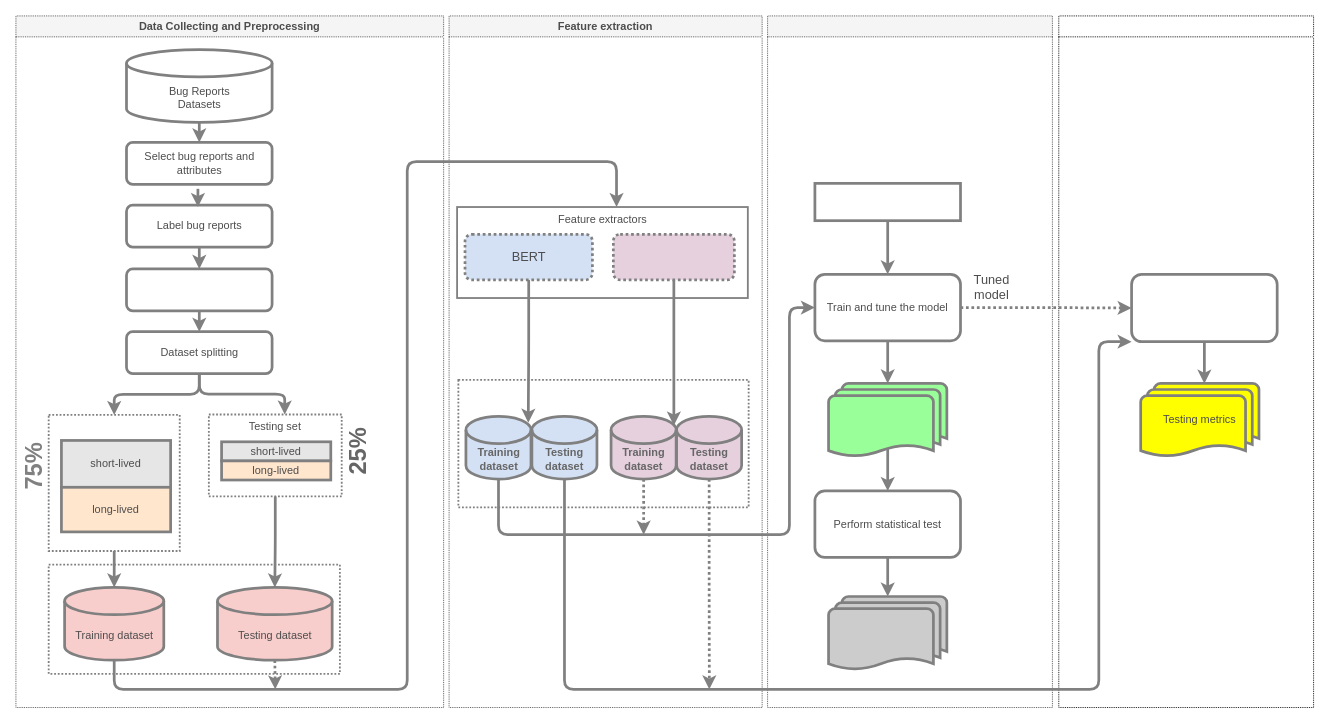
The diagram is 1330 pixels wide and 723 high, and some of its shapes have lost their labels. Each missing label, with the box of its shape:
Feature vectors datasets: (457, 379, 749, 508)
Hyper-parameters: (813, 182, 961, 222)
Model Testing: (1058, 15, 1314, 708)
Model Training: (767, 15, 1052, 708)
No-alphabetical charcters and Stop word removing: (125, 267, 273, 312)
Prepared datasets: (47, 563, 340, 674)
Statistical Test Table: (827, 595, 948, 671)
Test model: (1130, 273, 1278, 343)
TF-IDF: (612, 233, 735, 281)
Training metrics: (827, 382, 948, 458)
Training set: (47, 414, 180, 551)
